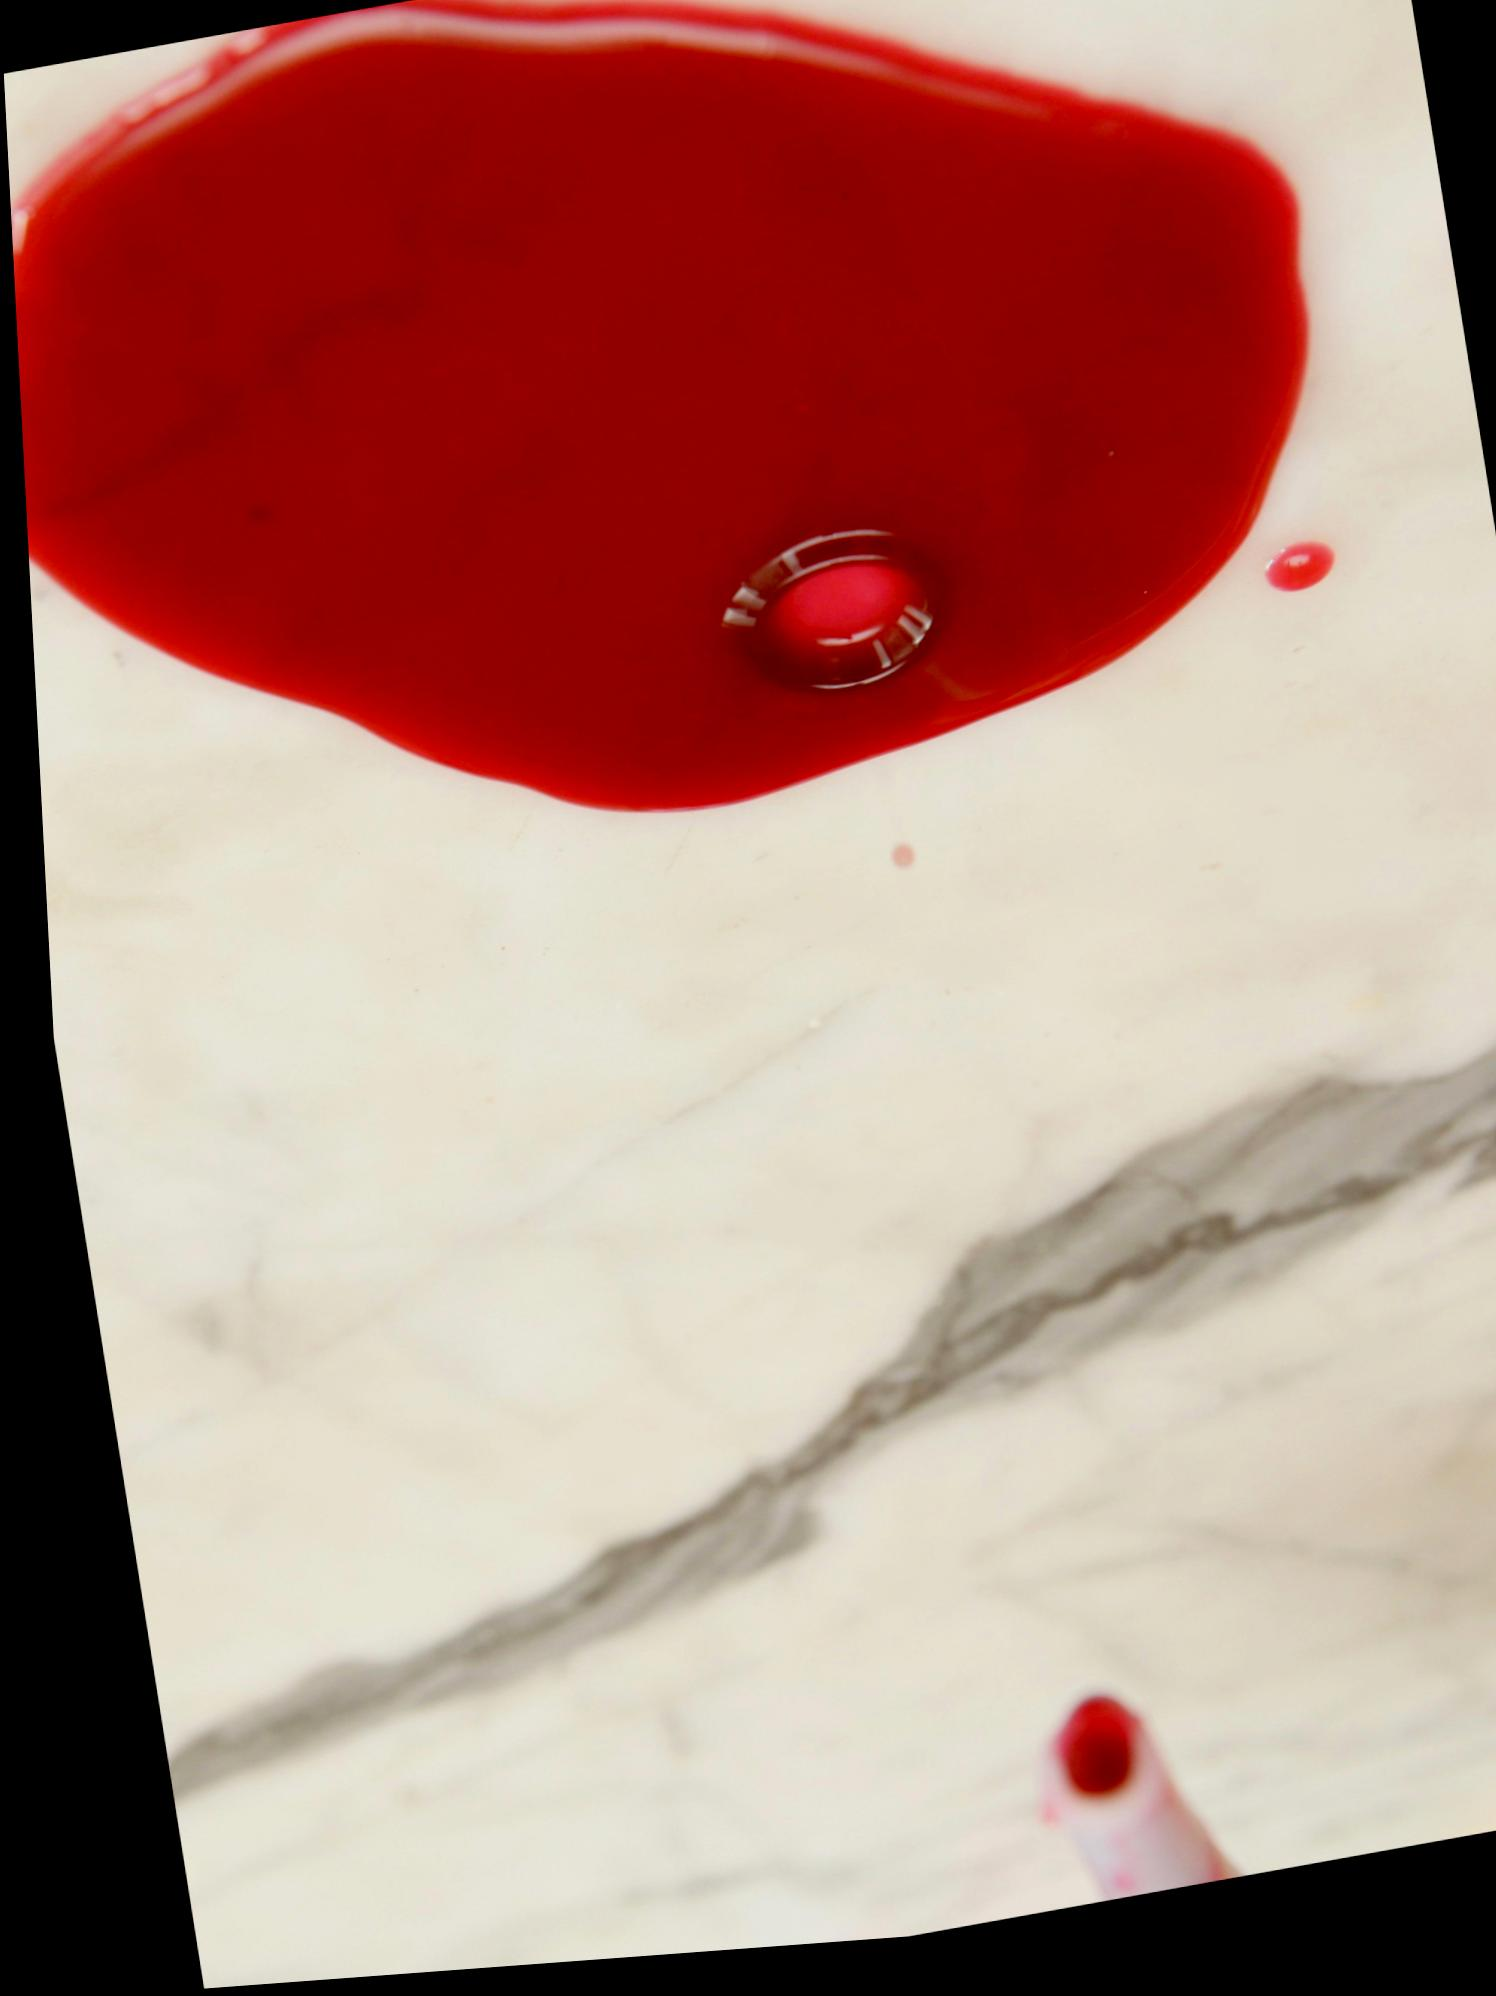Fire: (9, 0, 1304, 824), (1257, 561, 1328, 613)
